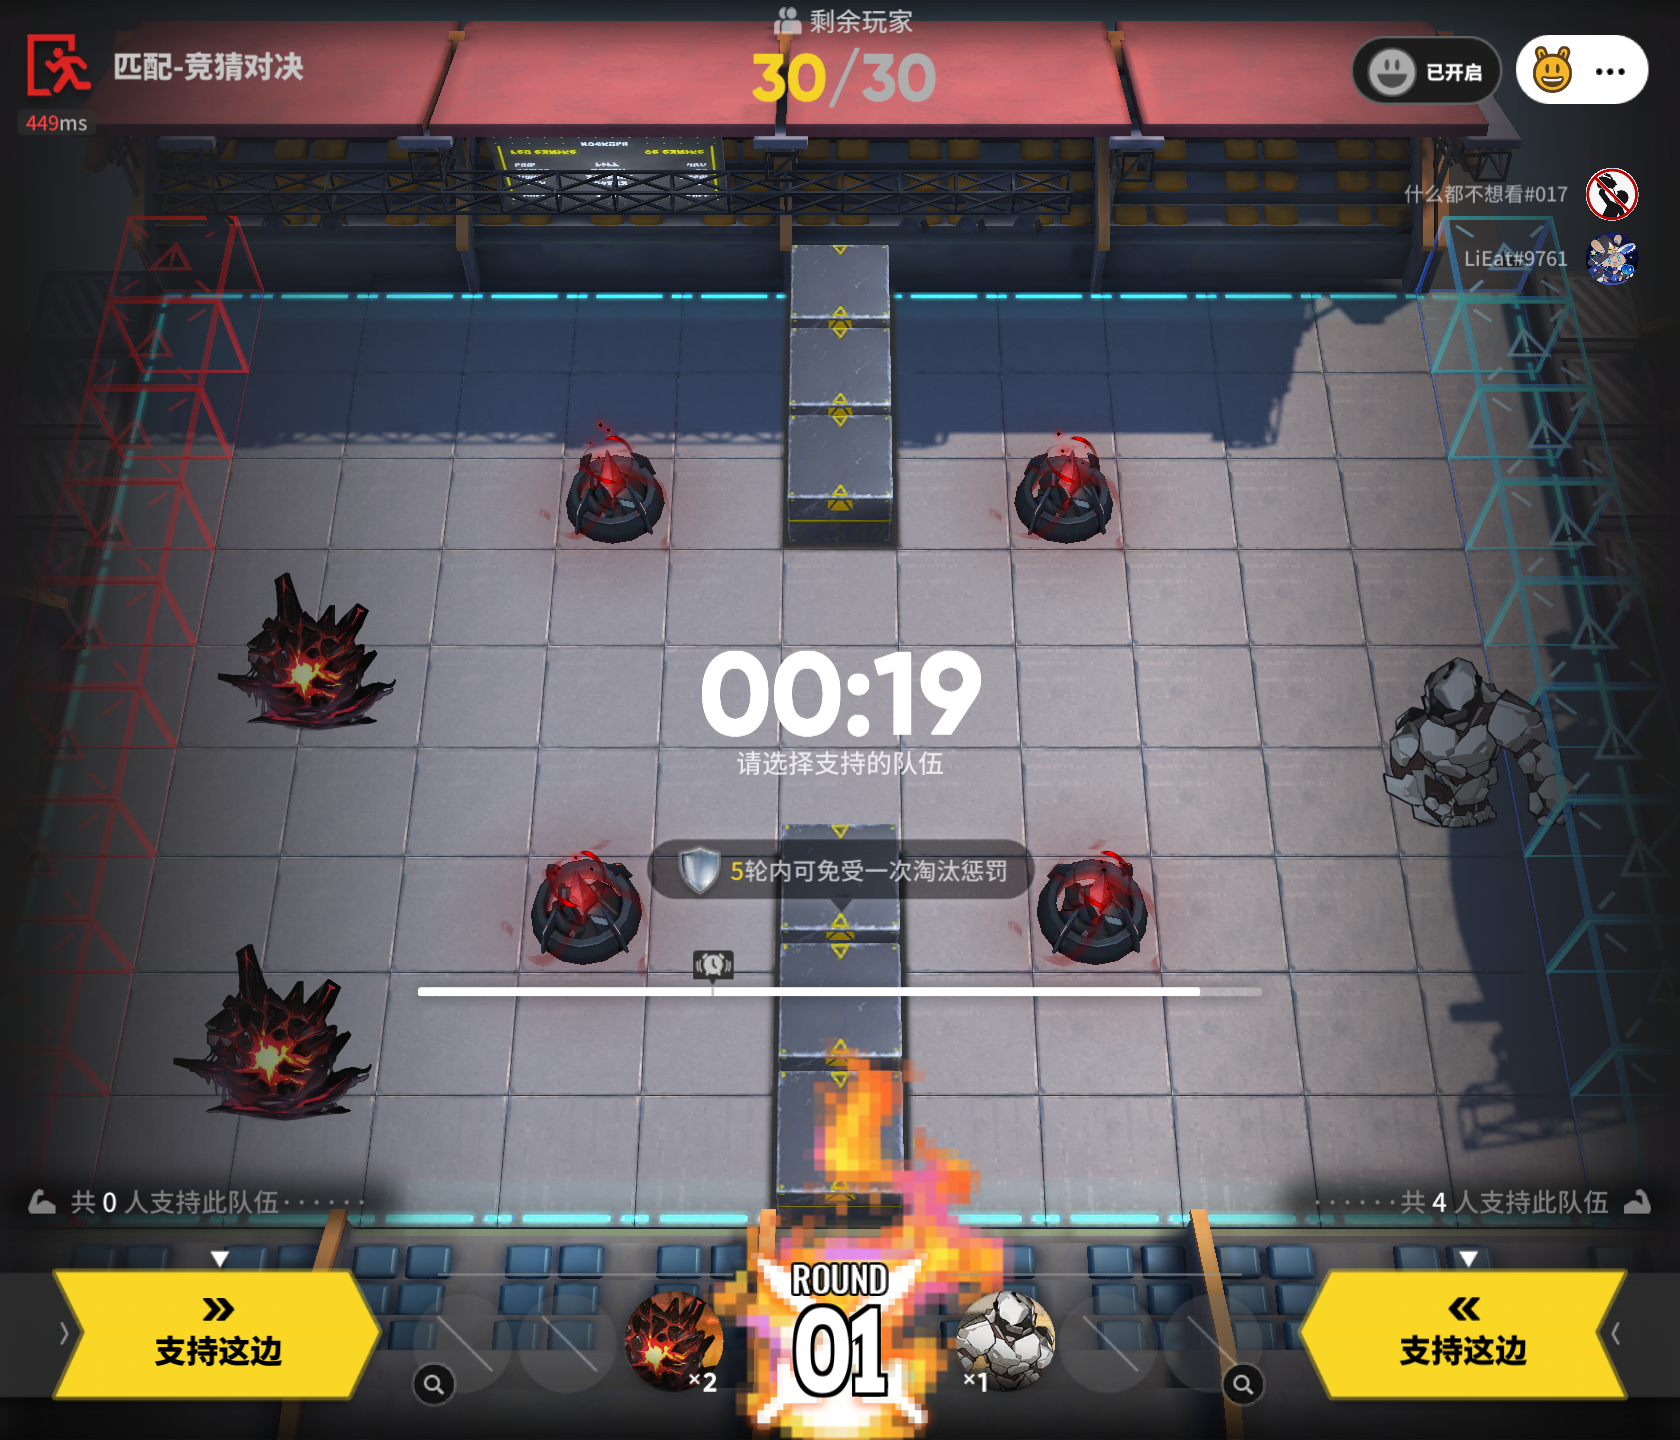“庞贝”: (164, 929, 374, 1119), (210, 570, 406, 736), (629, 1287, 727, 1387)
源石祭坛: (1031, 849, 1161, 977), (531, 851, 650, 977), (559, 429, 674, 549), (1014, 446, 1117, 554)
砸人的石头: (1361, 643, 1587, 841), (951, 1291, 1059, 1399)
阻挡物: (773, 1059, 913, 1221), (774, 936, 910, 1071), (776, 411, 906, 543), (774, 814, 903, 947), (787, 321, 899, 420), (787, 241, 886, 326)
